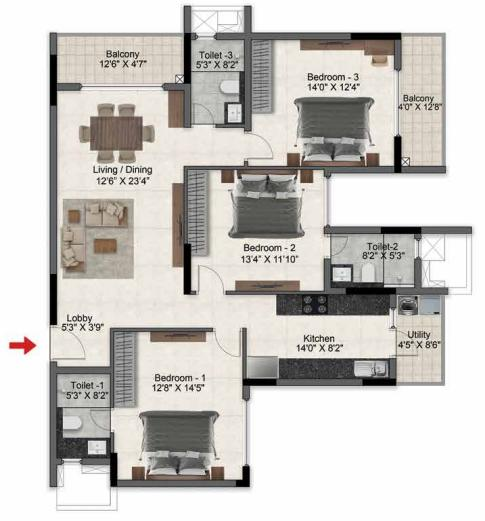Balcony: (51, 32, 188, 87), (399, 31, 447, 170)
Bed: (224, 168, 305, 240), (292, 98, 372, 162), (139, 412, 214, 478)
Bedroom: (114, 328, 247, 483), (251, 34, 401, 168), (188, 167, 326, 291)
Dining Room: (51, 87, 183, 192)
Dining table: (79, 102, 157, 162)
Kitchen: (244, 294, 397, 384)
Living Room: (54, 191, 189, 326)
Sofa: (81, 202, 128, 231), (62, 224, 84, 267)
Wardrobe: (109, 325, 136, 405), (250, 36, 277, 114), (186, 170, 209, 253)
commode: (360, 261, 376, 282), (221, 79, 241, 94), (61, 417, 82, 430)
door: (208, 329, 247, 361), (51, 325, 84, 358), (197, 262, 225, 292), (249, 136, 279, 160), (182, 106, 216, 123), (92, 408, 111, 432), (328, 238, 348, 256)
fridge: (247, 355, 279, 377)
kitchen-slab: (277, 292, 391, 316), (280, 359, 392, 381)
lobby: (51, 321, 111, 364)
sink: (353, 360, 387, 377), (225, 102, 244, 125), (331, 267, 353, 282), (86, 439, 106, 455)
stove: (303, 294, 330, 316)
toilet: (188, 37, 251, 125), (50, 374, 111, 463), (328, 232, 422, 286)
tv: (300, 35, 397, 56), (170, 187, 189, 268), (151, 327, 207, 346), (235, 278, 297, 293)
utility: (399, 289, 444, 380)
washing-machine: (398, 295, 418, 316)
